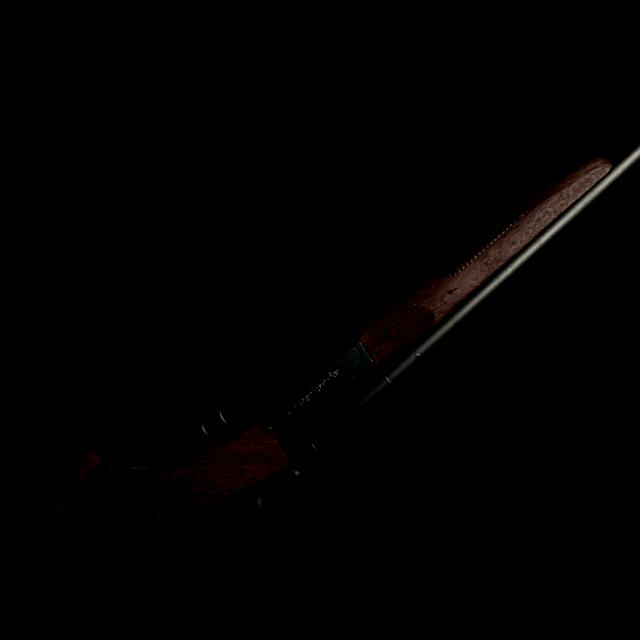long weapon: (28, 61, 640, 606)
